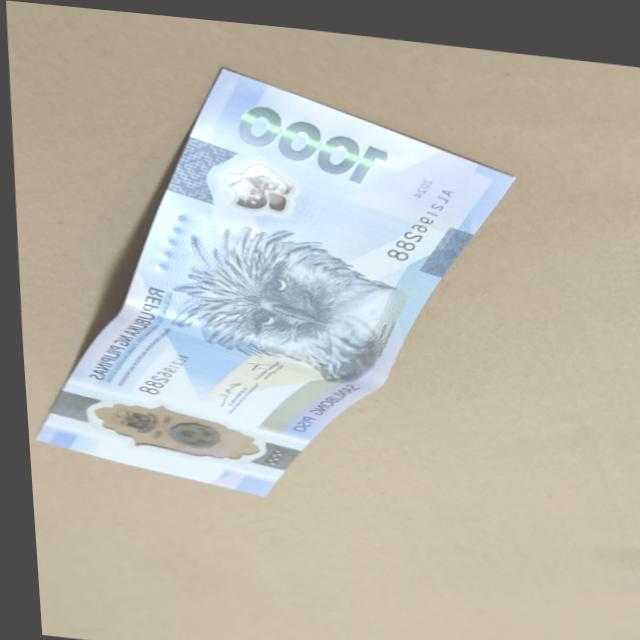clear_window: (80, 393, 264, 462)
eagle: (160, 214, 408, 369)
sampaguita: (220, 156, 294, 215)
serial_number: (367, 158, 466, 270), (118, 336, 196, 405)
